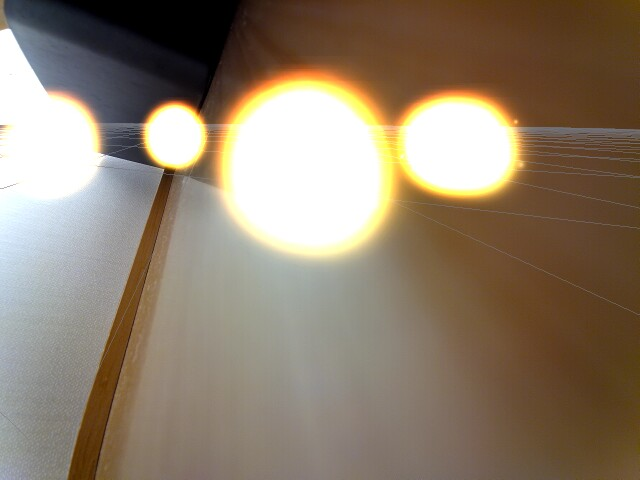firebig: (219, 72, 397, 258)
